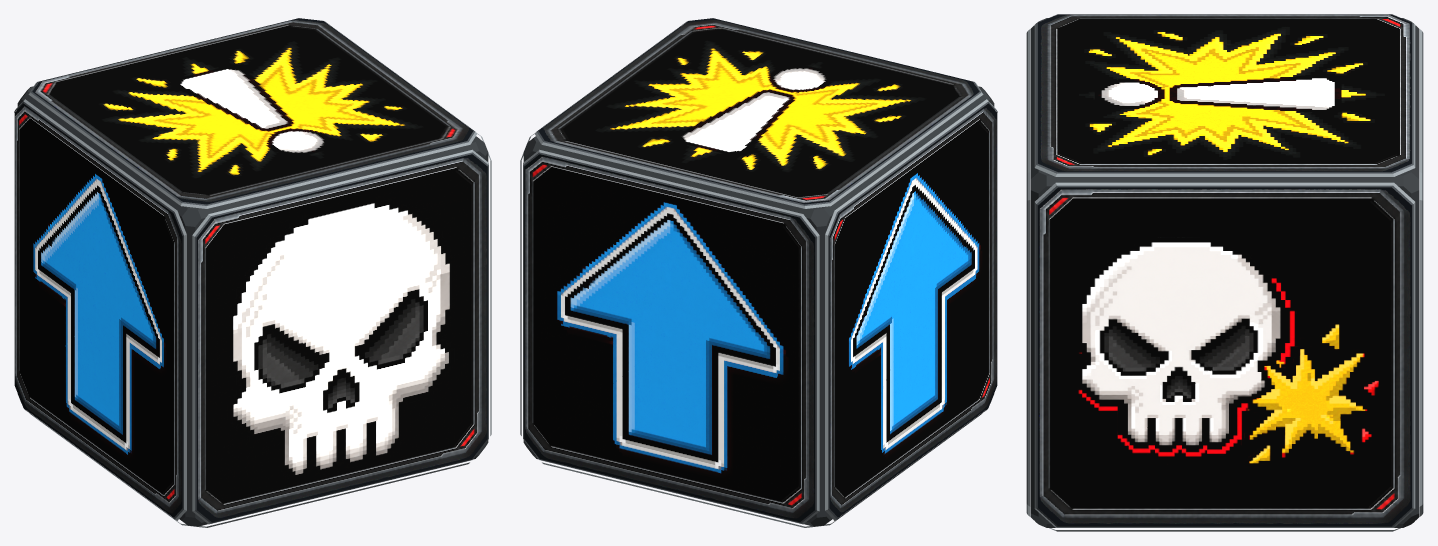
Rendered from super-fumbbl-block-die.glb.
3 views of the same model, side by side, from view 1: azimuth 30°, elevation 25°; view 2: azimuth 150°, elevation 25°; view 3: azimuth 270°, elevation 25° (orthographic). The views are drawn at different scales.
Parts seen in each view (by area): view 1: Super FUMBBL block die; view 2: Super FUMBBL block die; view 3: Super FUMBBL block die.
Boxes of the visible parts, x1=… form: Super FUMBBL block die: x1=14, y1=18, x2=491, y2=527; Super FUMBBL block die: x1=520, y1=18, x2=997, y2=527; Super FUMBBL block die: x1=1026, y1=14, x2=1423, y2=531.
Bounding box in the file's own units: 0.6739 × 0.6739 × 0.6739.
Materials: 10 (6 with a texture image).
